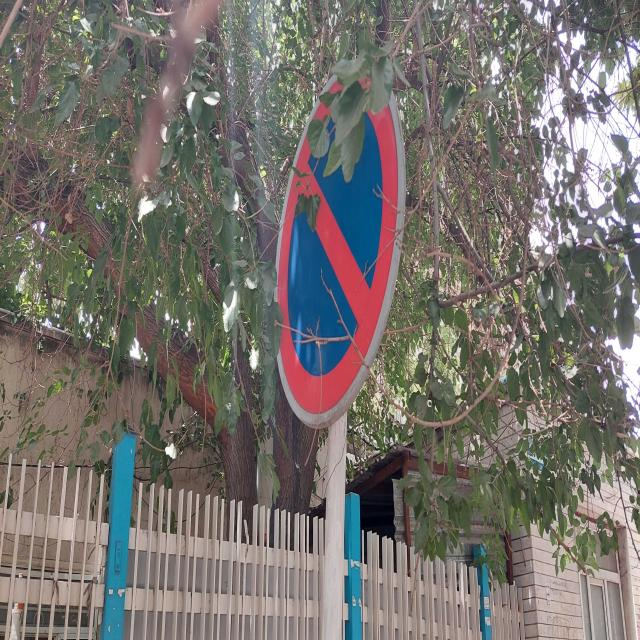forb_stopping: (272, 57, 406, 427)
